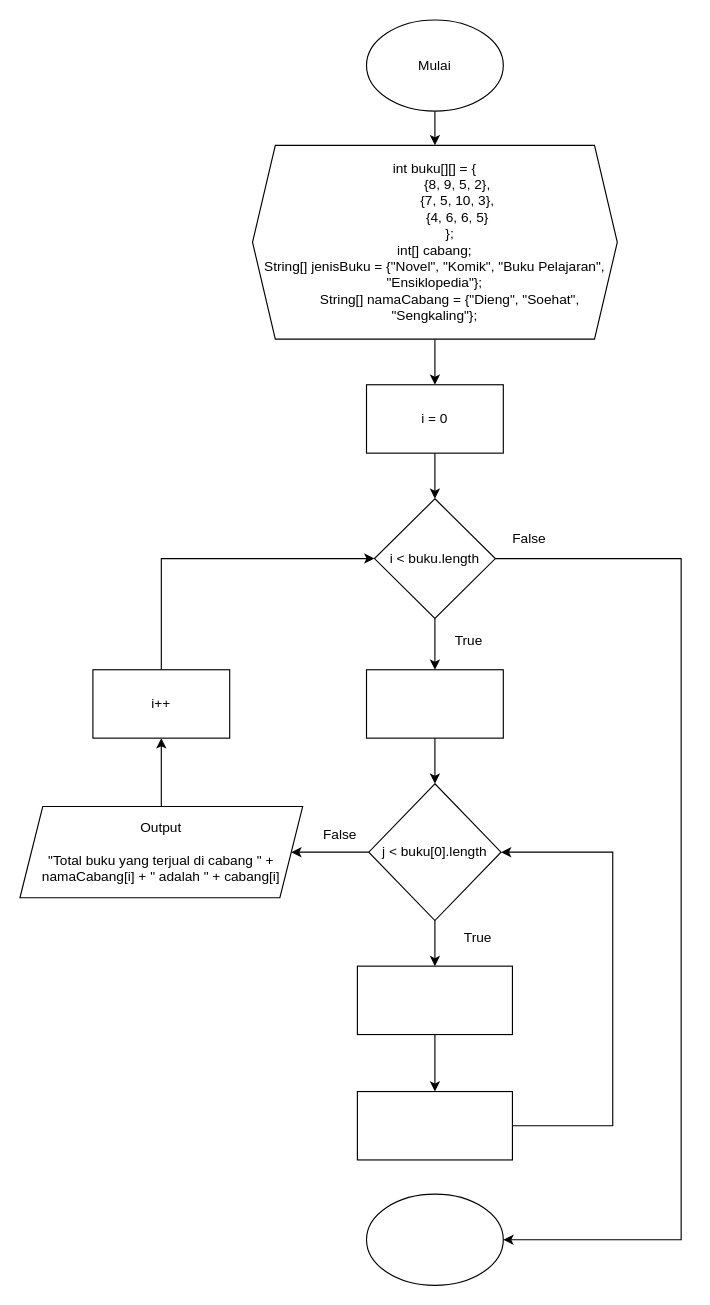
The diagram is 710 pixels wide and 1305 high, and some of its shapes have lost their labels. The shapes that lost their labels are listed below. From the top down, each one's box as (x1, y1, x2, y2) in pixels, then its label:
(365, 669, 503, 738): j = 0
(356, 965, 512, 1035): cabang[i] += buku[i][j]
(356, 1090, 512, 1160): j++
(365, 1193, 503, 1285): Selesai
